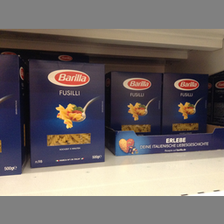pasta: (27, 57, 107, 169), (106, 71, 164, 136), (162, 73, 209, 135)
